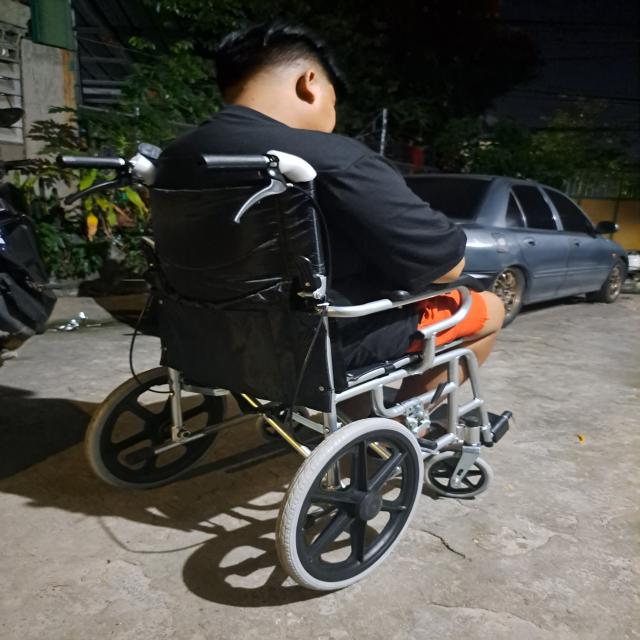wheelchairs: (46, 147, 520, 605)
